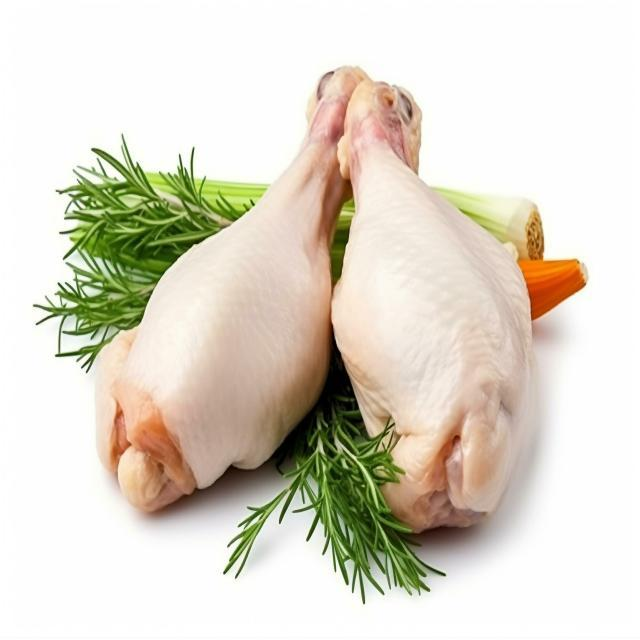leg: (109, 64, 347, 502), (336, 87, 524, 514)
